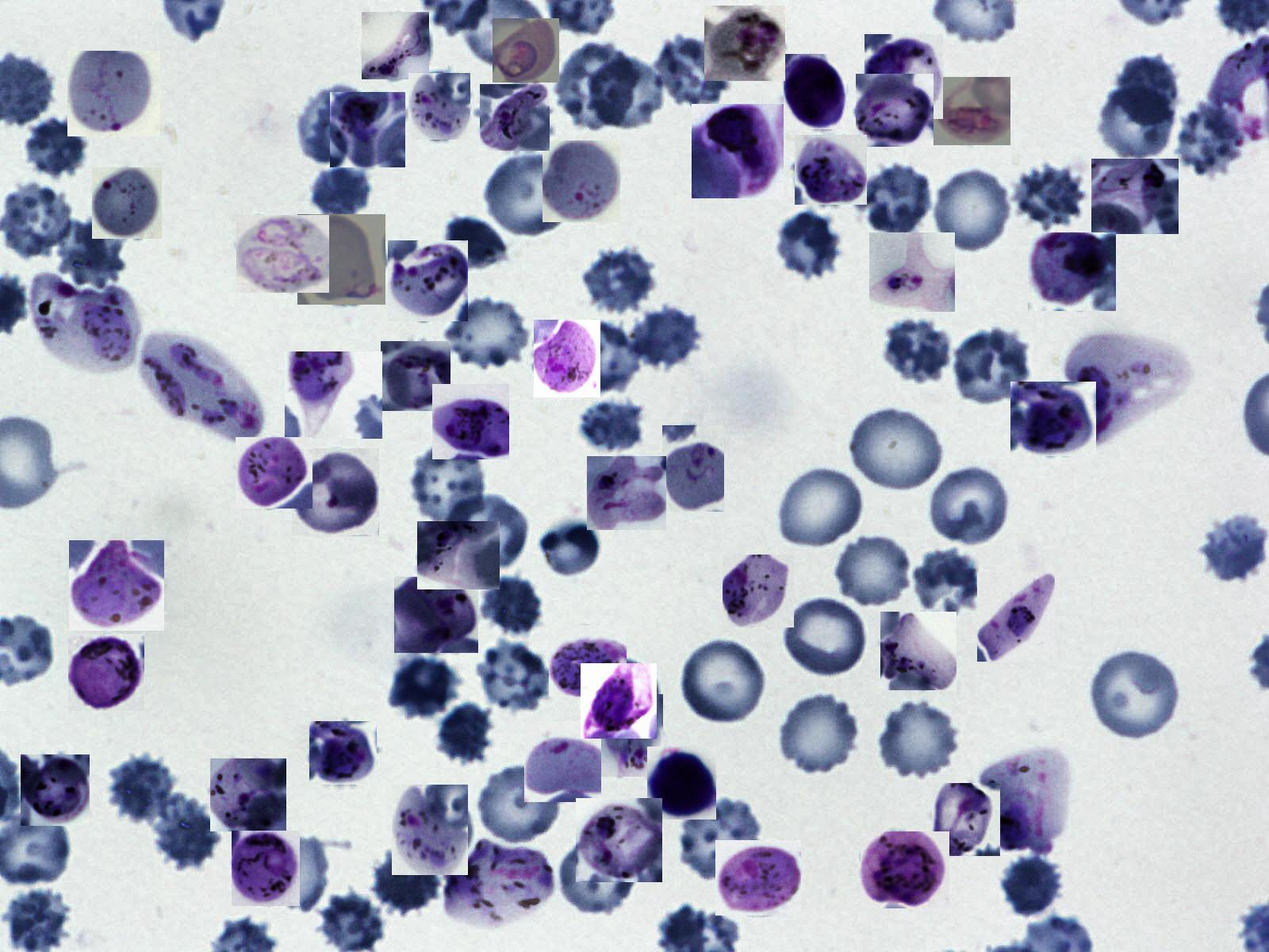Infected: (142, 329, 270, 444), (1066, 332, 1184, 447), (29, 270, 142, 374), (977, 748, 1069, 850), (447, 839, 553, 927), (692, 104, 784, 198), (69, 540, 164, 631), (285, 351, 382, 439), (297, 214, 385, 305), (67, 51, 160, 136), (292, 448, 379, 536), (236, 215, 329, 293), (576, 798, 662, 882), (977, 572, 1055, 662), (1028, 232, 1116, 311), (869, 232, 955, 312), (392, 785, 468, 875), (861, 831, 949, 908), (1091, 159, 1179, 234), (865, 35, 943, 119), (715, 840, 801, 916), (388, 240, 468, 321), (542, 140, 620, 222), (394, 577, 478, 653), (1010, 382, 1096, 456), (524, 721, 601, 802), (704, 6, 785, 81), (880, 612, 957, 690), (68, 634, 144, 711), (587, 456, 666, 530), (581, 663, 657, 739), (432, 384, 509, 459), (856, 74, 934, 147), (417, 521, 500, 589), (331, 92, 406, 167), (549, 625, 627, 697), (210, 758, 286, 831), (236, 437, 312, 509), (662, 425, 724, 512), (599, 694, 663, 777), (933, 77, 1010, 145), (723, 555, 794, 628), (232, 831, 300, 906), (534, 320, 600, 397), (92, 167, 162, 239), (795, 135, 867, 205), (647, 747, 716, 820), (21, 754, 90, 826), (932, 783, 1000, 856), (381, 341, 450, 411), (480, 84, 550, 151), (784, 54, 846, 129), (362, 13, 429, 79), (309, 721, 377, 785), (493, 18, 559, 83), (408, 73, 470, 140)
Uninfected: (482, 148, 585, 240), (1088, 647, 1183, 743), (847, 403, 946, 494), (775, 463, 868, 551), (675, 639, 767, 727), (677, 794, 766, 882), (776, 691, 864, 777), (876, 697, 964, 782), (926, 463, 1012, 547), (439, 493, 528, 574), (410, 437, 491, 526), (932, 167, 1014, 254), (949, 324, 1034, 405), (849, 161, 939, 236), (558, 836, 640, 917), (834, 532, 915, 611), (480, 764, 561, 843), (651, 34, 734, 109), (560, 43, 634, 125), (444, 297, 527, 370), (784, 599, 862, 674), (577, 244, 657, 316), (1098, 85, 1175, 159), (102, 751, 179, 825), (586, 56, 663, 130), (298, 85, 370, 163), (371, 843, 443, 920), (623, 301, 700, 373), (1, 181, 74, 256), (1173, 102, 1245, 178), (1010, 159, 1089, 226), (773, 207, 846, 278), (477, 641, 549, 712), (1109, 54, 1180, 126), (151, 793, 220, 867), (54, 216, 124, 288), (911, 547, 980, 620), (880, 313, 952, 382), (995, 852, 1068, 919), (1202, 512, 1269, 585), (575, 320, 642, 392), (271, 836, 331, 916), (391, 652, 459, 718), (309, 158, 373, 221), (6, 889, 69, 952), (21, 115, 84, 177), (478, 575, 542, 636), (319, 892, 382, 952), (435, 701, 493, 766), (579, 400, 646, 455), (444, 214, 511, 268), (541, 518, 600, 579)
